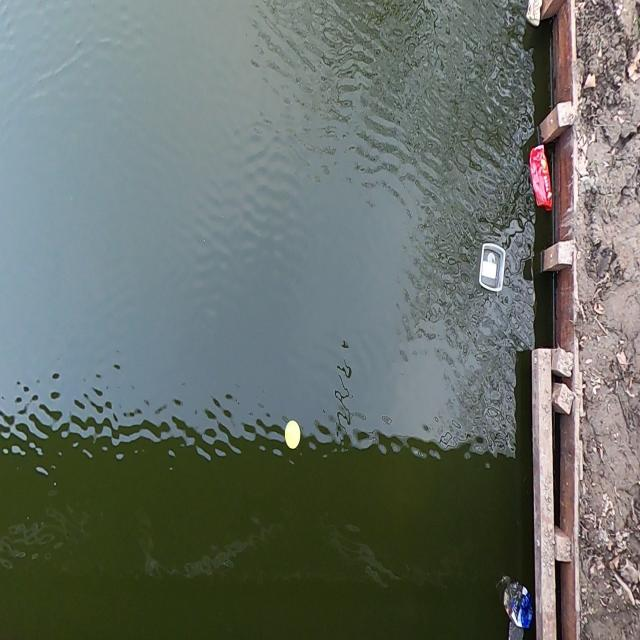Autre plastique: (524, 140, 554, 214), (475, 239, 509, 300), (276, 420, 308, 454)
Sac plastique: (495, 567, 536, 640)
